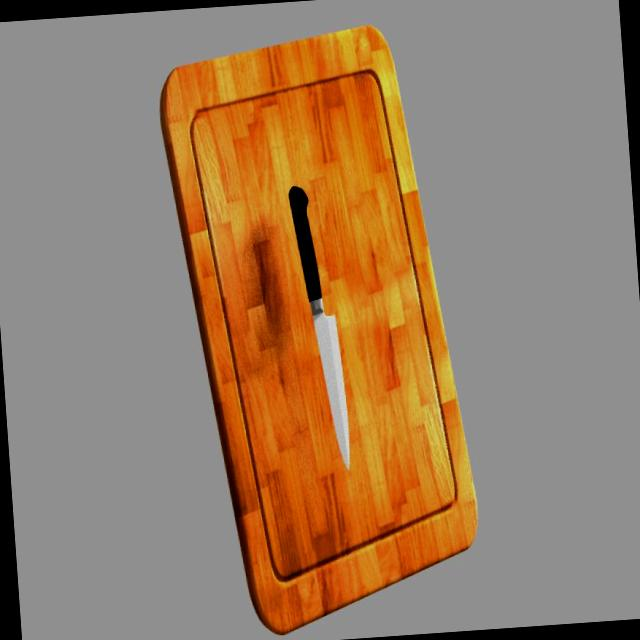knife: (287, 184, 321, 304)
